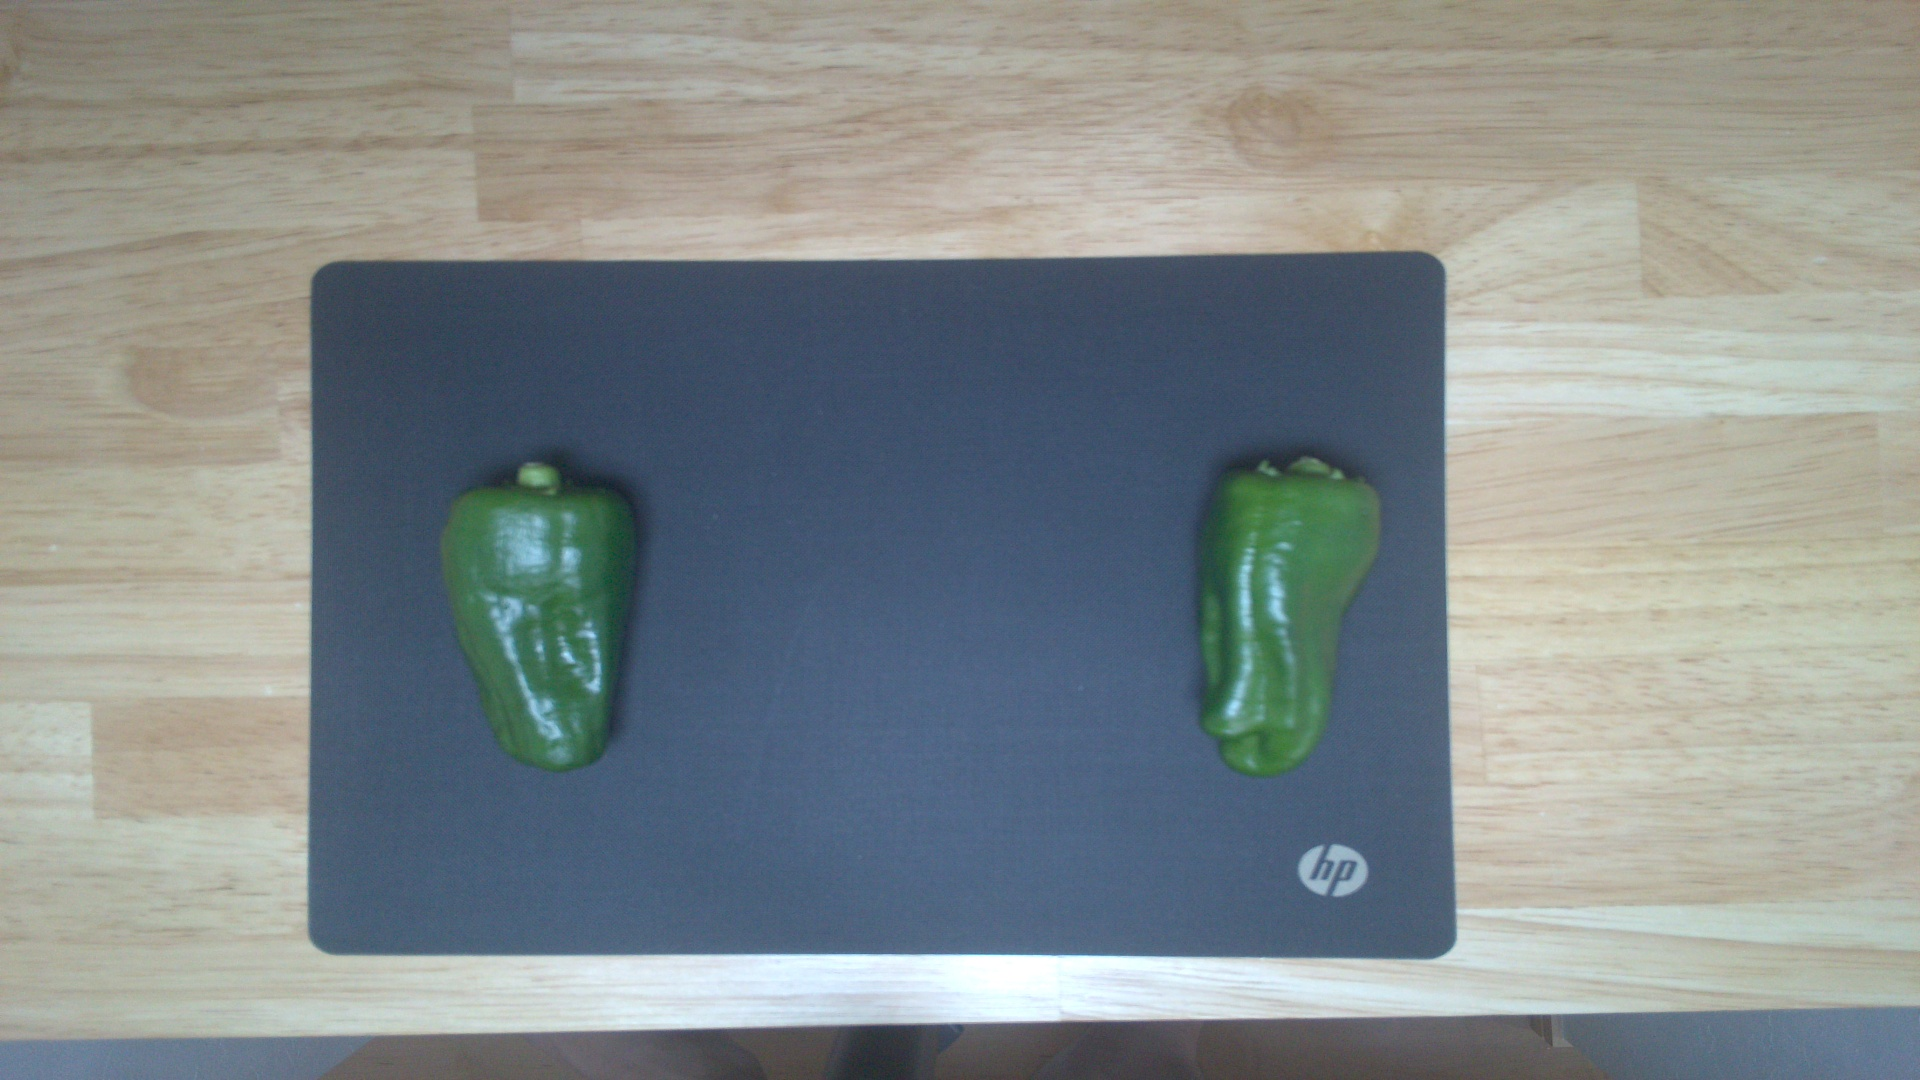Piman: (433, 459, 644, 771), (1191, 452, 1385, 783)
